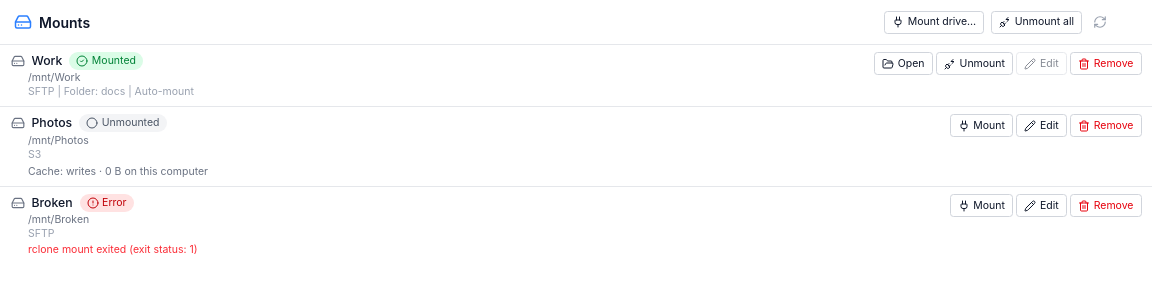
Test: Mounts list › reloads the list once per action
Expected: the text "Photos" is shown, [32,114,72,132]
Click the button "Mount" in the row of "Unmounted" at (981, 126), box [950,114,1013,137]
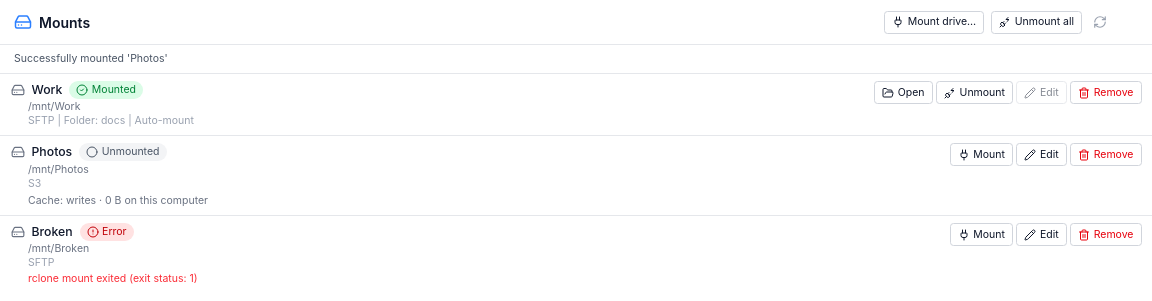
Result: the message "Successfully mounted 'Photos'" is shown at [0,45,1151,74]
